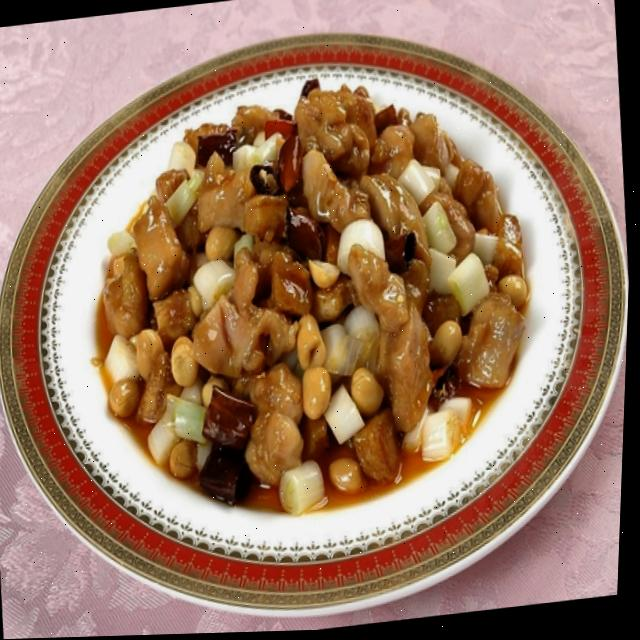鸡肉料理 含炸鸡: (60, 60, 553, 556)
